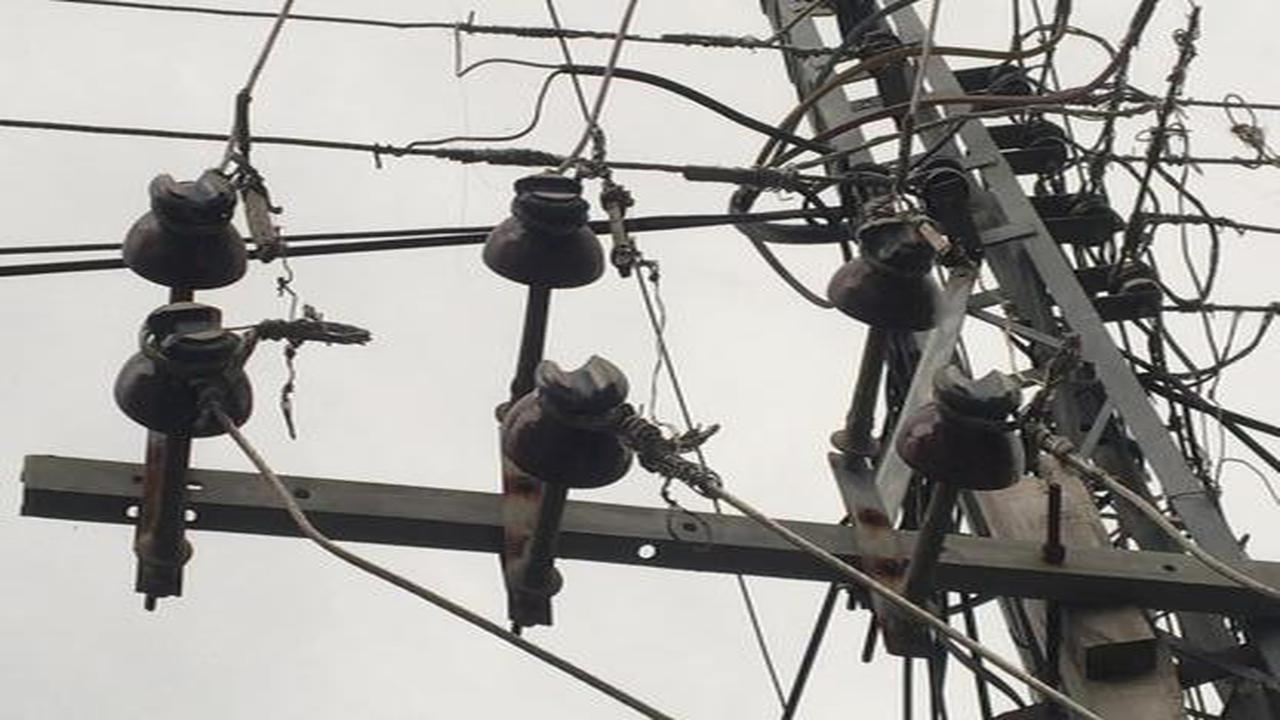insulator_pin: (494, 347, 638, 491), (111, 295, 259, 434), (893, 358, 1023, 492), (118, 165, 253, 293), (476, 166, 613, 292), (825, 217, 946, 330)
